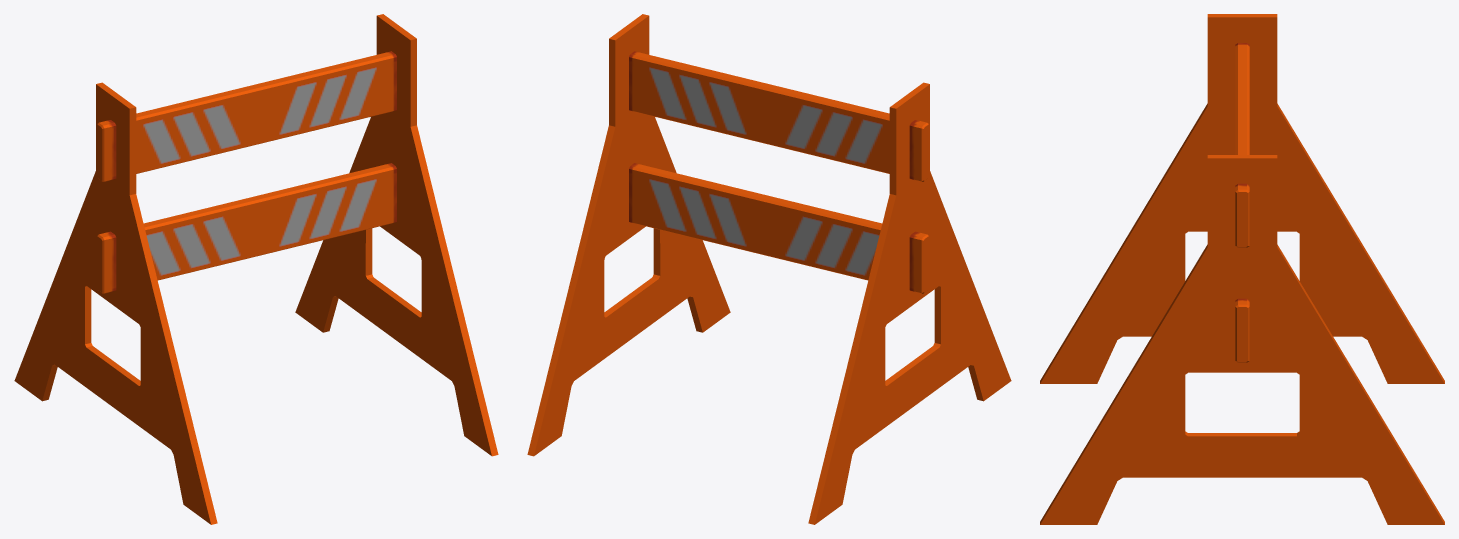
File: Cavalete.fbx
3 renders of one model, left to right at view 1: azimuth 30°, elevation 25°; view 2: azimuth 150°, elevation 25°; view 3: azimuth 270°, elevation 25°, orthographic. The views are drawn at different scales.
Parts seen in each view (by area): view 1: CavaleteLaranja; view 2: CavaleteLaranja; view 3: CavaleteLaranja.
Part boxes in pixels (box(x1,y1,x2,y2)): CavaleteLaranja: box(14, 14, 498, 524); CavaleteLaranja: box(527, 14, 1011, 524); CavaleteLaranja: box(1040, 14, 1444, 524).
Size of the model in its own units: 103 by 111 by 112.
